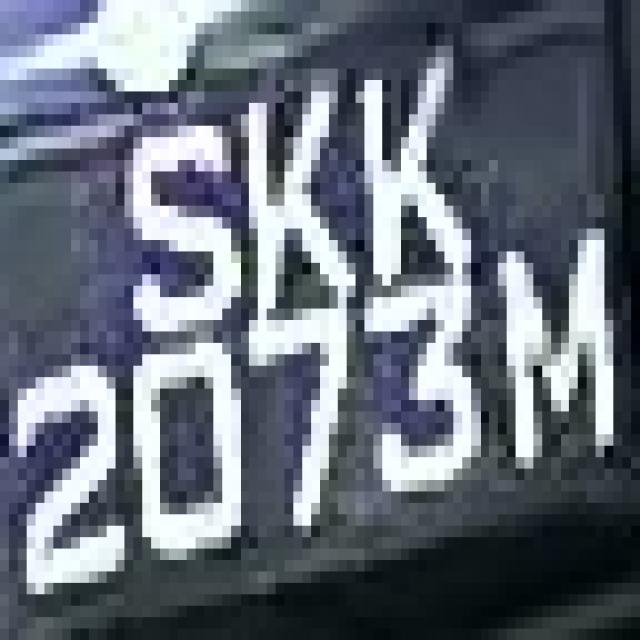0: (125, 286, 266, 594)
2: (27, 331, 133, 640)
3: (347, 263, 498, 503)
7: (196, 274, 364, 537)
K: (222, 80, 364, 331), (347, 57, 489, 286)
M: (480, 183, 631, 503)
S: (98, 103, 249, 343)
